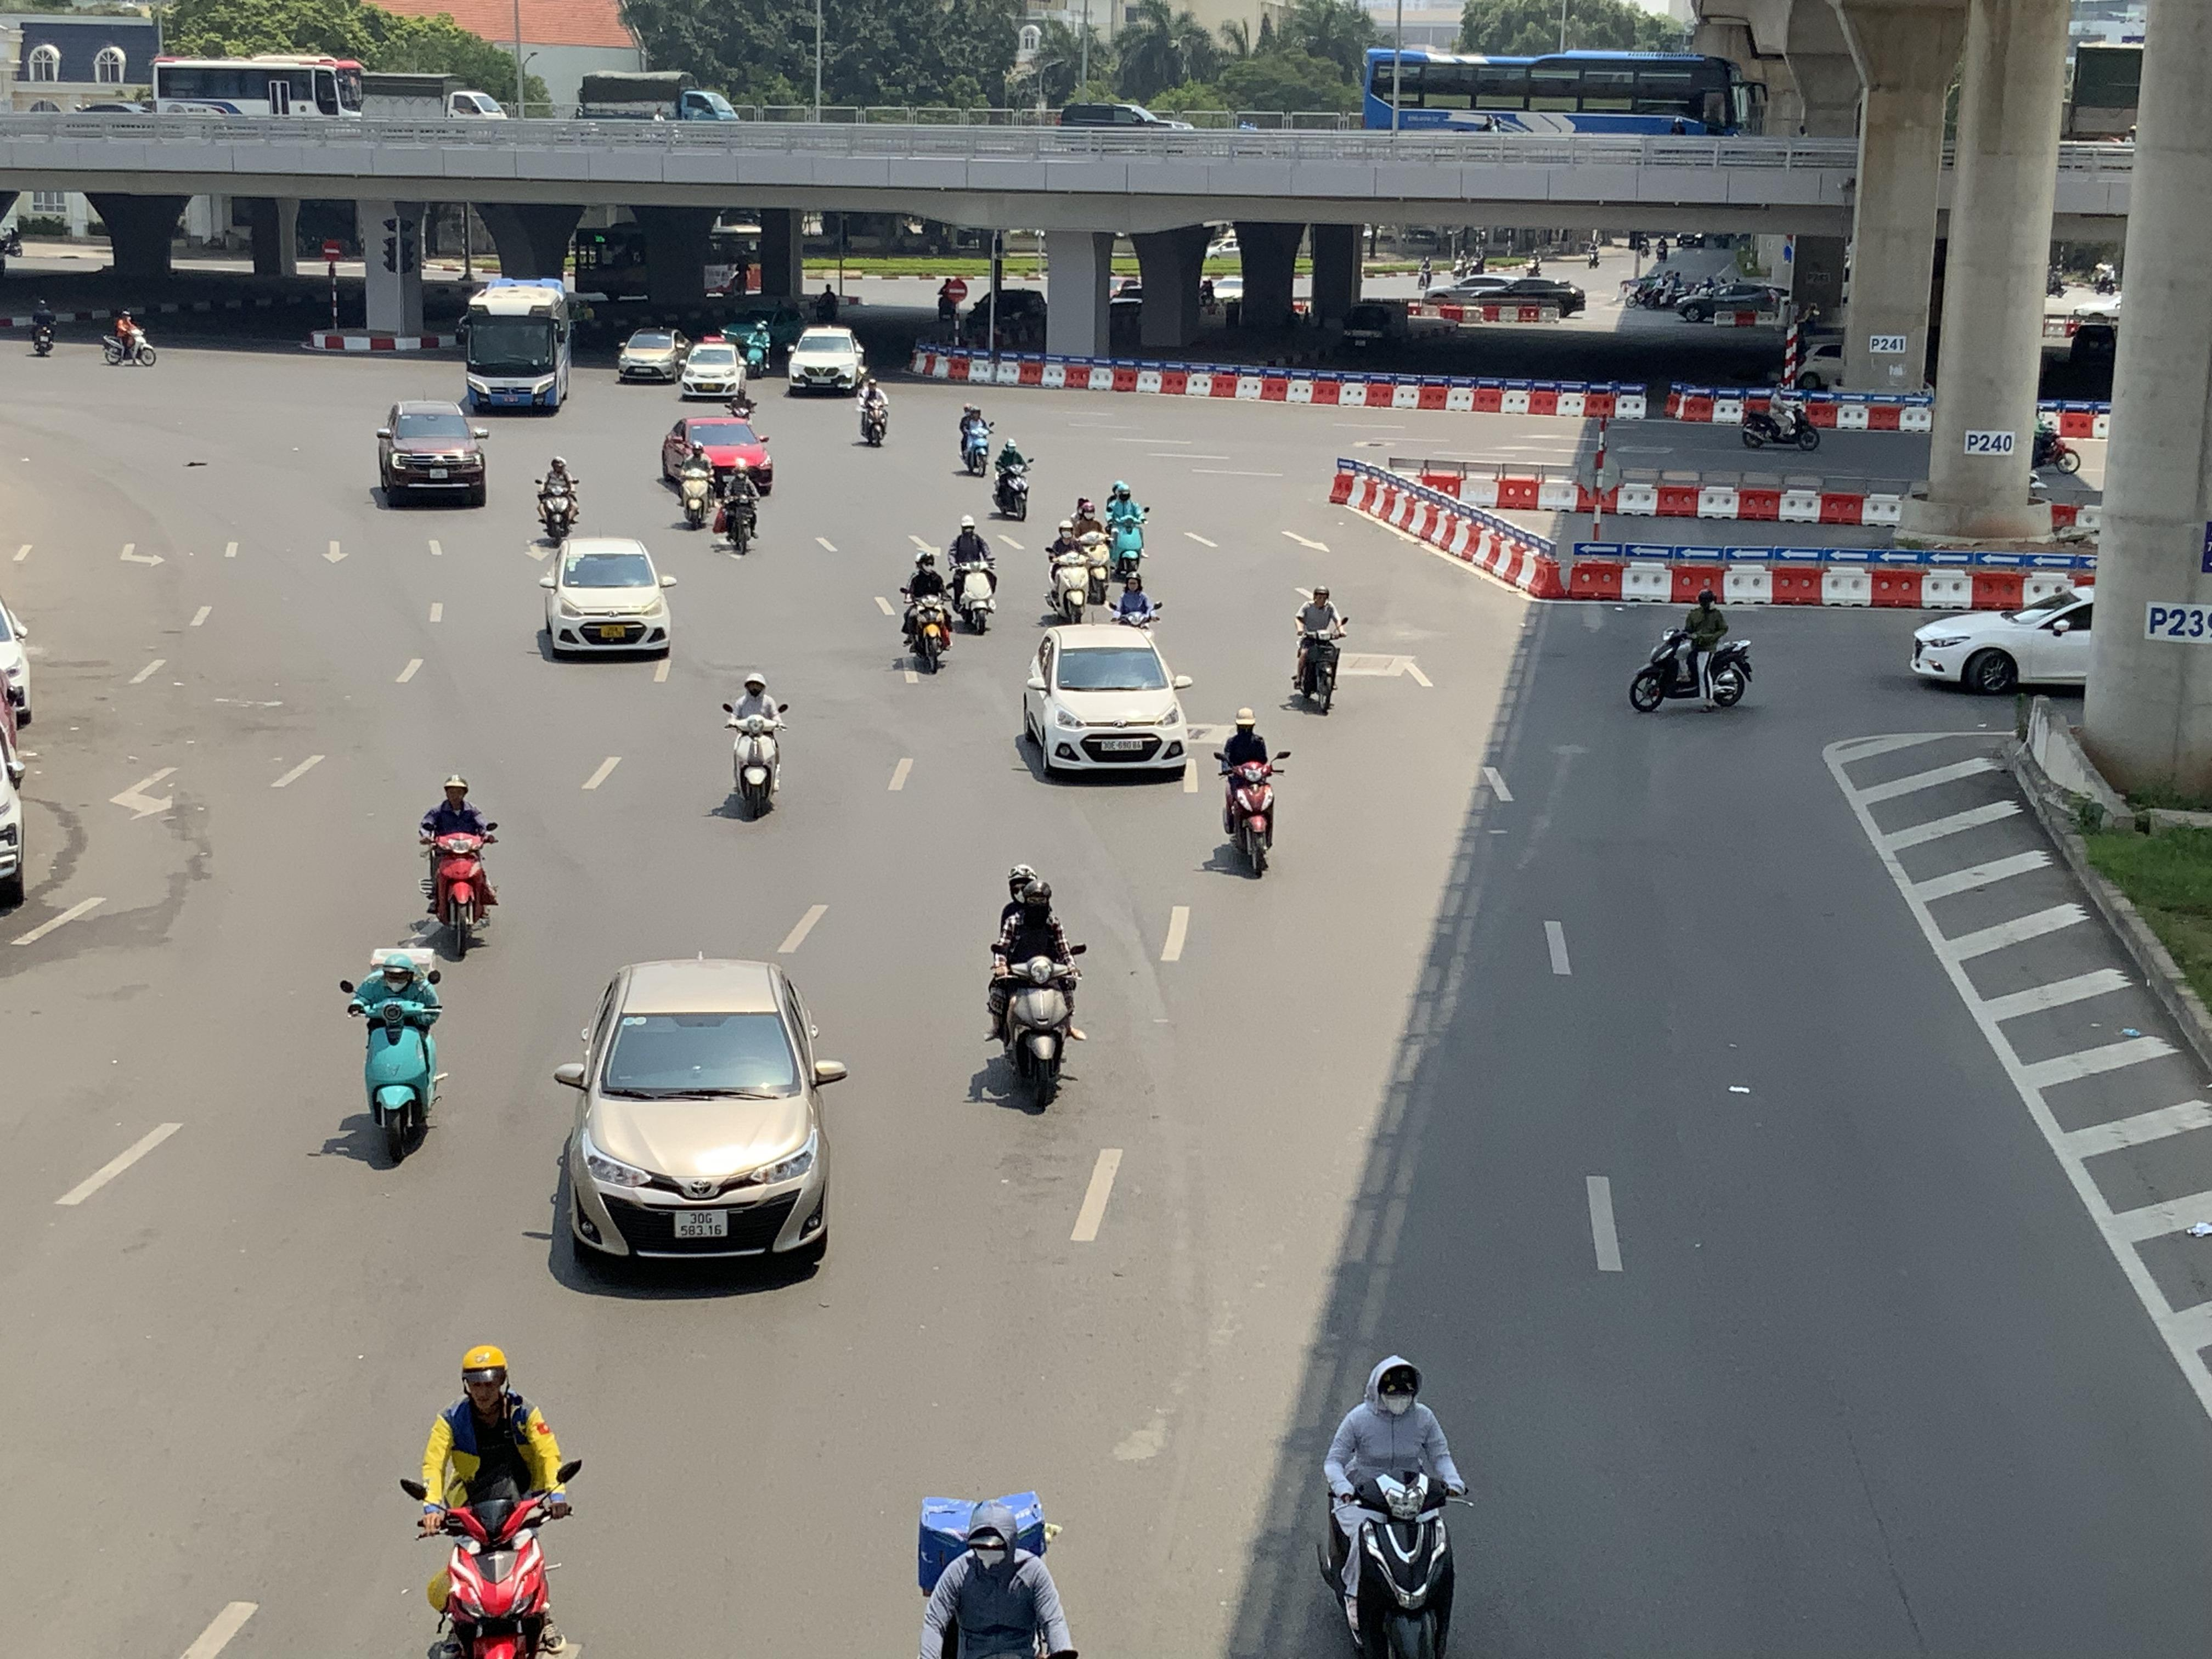BSD: (1101, 739, 1144, 751)
BSV: (672, 1209, 726, 1239)
bus: (1362, 45, 1761, 132), (460, 277, 571, 415)
car: (549, 957, 848, 1288), (1911, 591, 2210, 694), (1017, 622, 1193, 782), (1911, 592, 2094, 695), (535, 537, 676, 662), (373, 399, 488, 509), (662, 415, 775, 495), (786, 326, 867, 396), (0, 582, 33, 728), (678, 340, 751, 401), (617, 328, 685, 382)
motorbike: (404, 1342, 582, 1659), (1318, 1356, 1470, 1659), (916, 1490, 1080, 1659), (986, 864, 1085, 1117), (343, 941, 444, 1166), (1629, 589, 1752, 711), (418, 774, 496, 962), (1216, 709, 1284, 878), (721, 671, 787, 821), (1285, 584, 1348, 714), (899, 549, 954, 674), (1740, 371, 1820, 451), (944, 518, 998, 634), (1043, 518, 1094, 626), (1103, 479, 1151, 580), (711, 455, 759, 554), (533, 455, 580, 547), (991, 436, 1033, 521), (676, 443, 716, 530), (1108, 572, 1163, 631), (101, 307, 155, 368), (958, 401, 995, 476), (857, 373, 888, 448), (30, 298, 56, 356)
